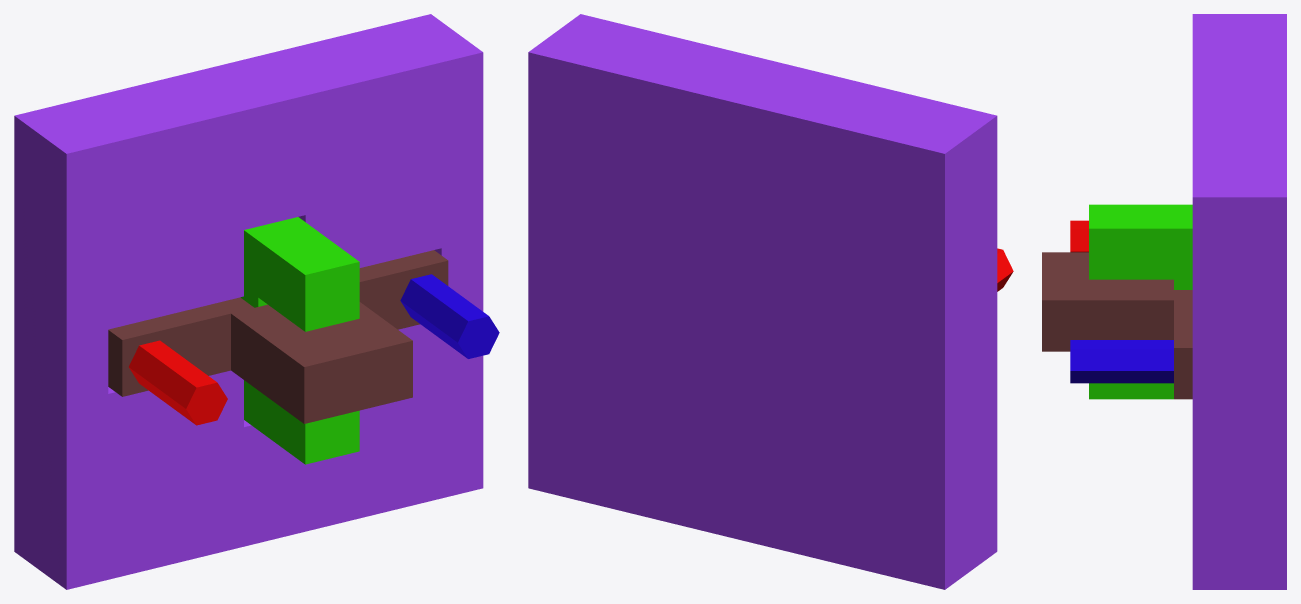
Rendered from assembly2.obj.
The picture shows the model from 3 angles, left to right: view 1: azimuth 30°, elevation 25°; view 2: azimuth 150°, elevation 25°; view 3: azimuth 270°, elevation 25°; orthographic projection. The views are drawn at different scales.
Visible parts, largest first — view 1: obj1, obj2, obj3, obj4, obj5; view 2: obj1; view 3: obj1, obj2, obj3, obj5, obj4.
Boxes of the visible parts, x1,y1,x2,y2 form: obj1: (14, 14, 483, 589); obj2: (108, 250, 448, 423); obj3: (240, 217, 359, 464); obj4: (129, 340, 227, 425); obj5: (400, 274, 499, 358); obj1: (528, 14, 997, 589); obj1: (1192, 14, 1286, 589); obj2: (1042, 252, 1192, 399); obj3: (1089, 204, 1192, 399); obj5: (1070, 340, 1173, 383); obj4: (1070, 220, 1088, 252).
Size of the model in its own units: 230 by 230 by 130.
